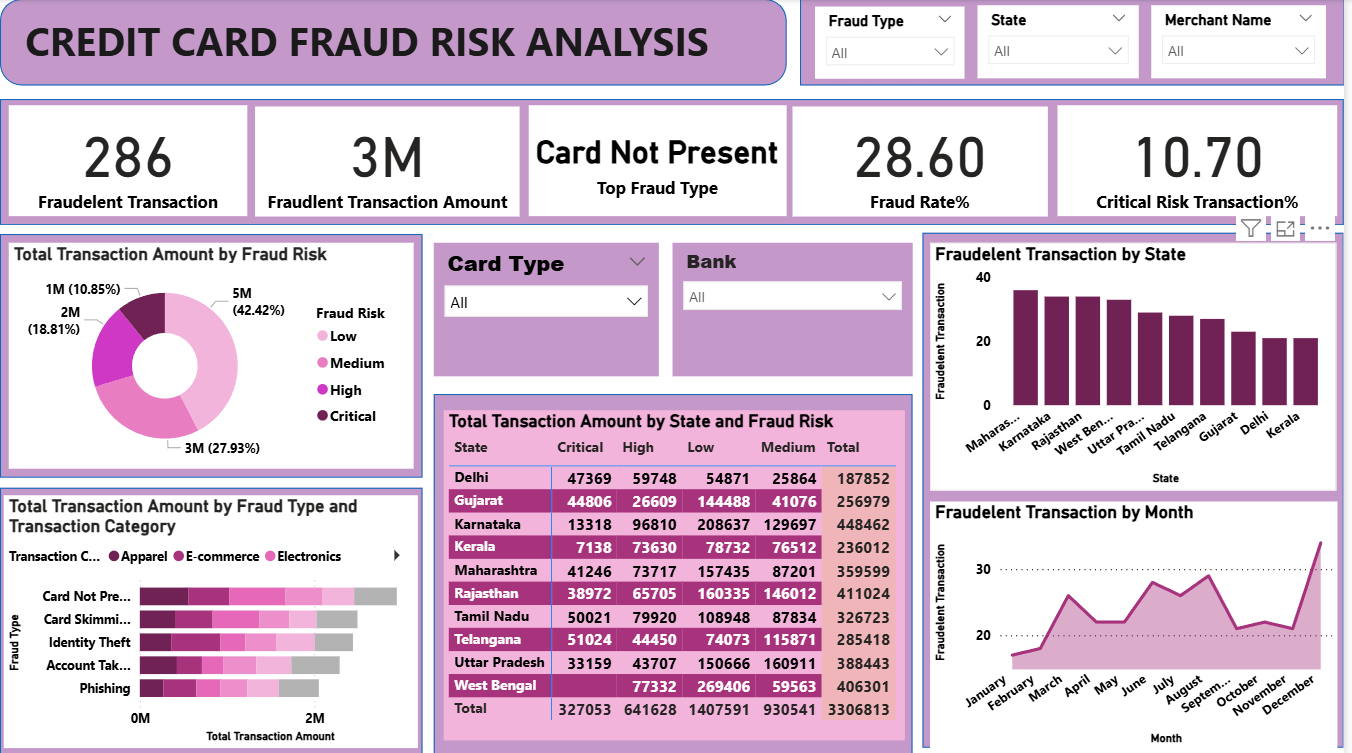

What the dashboard file says about the page in this screenshot:
{"tool":"powerbi","page":{"name":"Page 1","canvas":[1280,720],"ordinal":0},"visuals":[{"type":"shape","box":[0,0,749.2,82.3],"z":0},{"type":"textbox","box":[19.2,9.6,699.8,60.4],"z":1000},{"type":"shape","box":[761.6,0,518.7,82.3],"z":2000},{"type":"slicer","fields":{"Values":["Credit Card Fraud Risk Analysis.Fraud Type"]},"box":[776.7,6.9,142.7,68.6],"z":3000},{"type":"slicer","fields":{"Values":["Credit Card Fraud Risk Analysis.State"]},"box":[930.4,5.5,153.7,70],"z":4000},{"type":"slicer","fields":{"Values":["Credit Card Fraud Risk Analysis.Merchant Name"]},"box":[1096.4,5.5,166,70],"z":5000},{"type":"shape","box":[0,95.2,1279.8,120.2],"z":6000},{"type":"shape","box":[0,223.8,402.4,232.1],"z":7000},{"type":"shape","box":[0,465.5,402.4,254.8],"z":8000},{"type":"shape","box":[878.6,222.6,401.2,490.5],"z":9000},{"type":"shape","box":[413.1,376.2,456,344],"z":10000},{"type":"barChart","fields":{"Y":["Credit Card Fraud Risk Analysis.Total Transaction Amount"],"Category":["Credit Card Fraud Risk Analysis.Fraud Type"],"Series":["Credit Card Fraud Risk Analysis.Transaction Category"]},"box":[3.6,472.6,394,240.5],"z":11000},{"type":"donutChart","fields":{"Category":["Credit Card Fraud Risk Analysis.Fraud Risk"],"Y":["Credit Card Fraud Risk Analysis.Total Transaction Amount"]},"box":[8.3,232.1,385.7,215.5],"z":12000},{"type":"columnChart","fields":{"Category":["Credit Card Fraud Risk Analysis.State"],"Y":["Credit Card Fraud Risk Analysis.Fraudelent Transaction"]},"box":[885.7,232.1,386.9,235.7],"z":13000},{"type":"areaChart","fields":{"Category":["Credit Card Fraud Risk Analysis.Transaction Date.Variation.Date Hierarchy.Month"],"Y":["Credit Card Fraud Risk Analysis.Fraudelent Transaction"]},"box":[885.7,478.6,388.1,236.9],"z":14000},{"type":"card","fields":{"Values":["Credit Card Fraud Risk Analysis.Fraudelent Transaction"]},"box":[8.3,101.2,227.4,106],"z":15000},{"type":"card","fields":{"Values":["Credit Card Fraud Risk Analysis.Fraudlent Transaction Amount"]},"box":[242.9,102.4,252.4,104.8],"z":16000},{"type":"card","fields":{"Values":["Credit Card Fraud Risk Analysis.Top Fraud Type"]},"box":[503.6,101.2,245.2,106],"z":17000},{"type":"card","fields":{"Values":["Credit Card Fraud Risk Analysis.Fraud Rate%"]},"box":[754.8,102.4,242.9,104.8],"z":18000},{"type":"card","fields":{"Values":["Credit Card Fraud Risk Analysis.Critical Risk Transaction"]},"box":[1007.1,101.2,266.7,106],"z":19000},{"type":"pivotTable","title":"Total Tansaction Amount by State and Fraud Risk","fields":{"Rows":["Credit Card Fraud Risk Analysis.State"],"Columns":["Credit Card Fraud Risk Analysis.Fraud Risk"],"Values":["Credit Card Fraud Risk Analysis.Fraudlent Transaction Amount"]},"box":[422.6,391.7,439.3,314.3],"z":20000},{"type":"slicer","fields":{"Values":["Credit Card Fraud Risk Analysis.Card Type"]},"box":[413.1,232.1,214.3,127.4],"z":20001},{"type":"slicer","fields":{"Values":["Credit Card Fraud Risk Analysis.Bank"]},"box":[640.5,232.1,228.6,127.4],"z":20002}]}

Visuals, with their boxes in screenshot pixels (x1, y1, x2, y2), scaled from the page's 1280x720 canvas onto the 1352x753 screenshot:
shape: <bbox>0, 0, 791, 86</bbox>
textbox: <bbox>20, 10, 759, 73</bbox>
shape: <bbox>804, 0, 1351, 86</bbox>
slicer - Credit Card Fraud Risk Analysis.Fraud Type: <bbox>820, 7, 971, 79</bbox>
slicer - Credit Card Fraud Risk Analysis.State: <bbox>983, 6, 1145, 79</bbox>
slicer - Credit Card Fraud Risk Analysis.Merchant Name: <bbox>1158, 6, 1333, 79</bbox>
shape: <bbox>0, 100, 1351, 225</bbox>
shape: <bbox>0, 234, 425, 477</bbox>
shape: <bbox>0, 487, 425, 752</bbox>
shape: <bbox>928, 233, 1351, 746</bbox>
shape: <bbox>436, 393, 918, 752</bbox>
barChart - Credit Card Fraud Risk Analysis.Total Transaction Amount x Credit Card Fraud Risk Analysis.Fraud Type: <bbox>4, 494, 420, 746</bbox>
donutChart - Credit Card Fraud Risk Analysis.Fraud Risk x Credit Card Fraud Risk Analysis.Total Transaction Amount: <bbox>9, 243, 416, 468</bbox>
columnChart - Credit Card Fraud Risk Analysis.State x Credit Card Fraud Risk Analysis.Fraudelent Transaction: <bbox>936, 243, 1344, 489</bbox>
areaChart - Credit Card Fraud Risk Analysis.Transaction Date.Variation.Date Hierarchy.Month x Credit Card Fraud Risk Analysis.Fraudelent Transaction: <bbox>936, 501, 1345, 748</bbox>
card - Credit Card Fraud Risk Analysis.Fraudelent Transaction: <bbox>9, 106, 249, 217</bbox>
card - Credit Card Fraud Risk Analysis.Fraudlent Transaction Amount: <bbox>257, 107, 523, 217</bbox>
card - Credit Card Fraud Risk Analysis.Top Fraud Type: <bbox>532, 106, 791, 217</bbox>
card - Credit Card Fraud Risk Analysis.Fraud Rate%: <bbox>797, 107, 1054, 217</bbox>
card - Credit Card Fraud Risk Analysis.Critical Risk Transaction: <bbox>1064, 106, 1345, 217</bbox>
"Total Tansaction Amount by State and Fraud Risk" pivotTable: <bbox>446, 410, 910, 738</bbox>
slicer - Credit Card Fraud Risk Analysis.Card Type: <bbox>436, 243, 663, 376</bbox>
slicer - Credit Card Fraud Risk Analysis.Bank: <bbox>677, 243, 918, 376</bbox>
